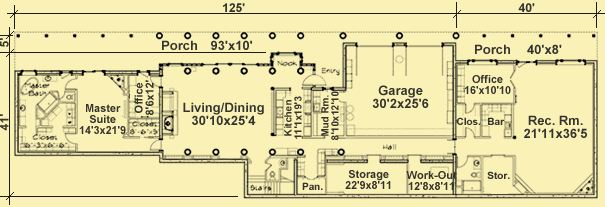bathroom having twin sink shower space and large sink: (13, 70, 81, 156)
stairs to the other floors: (240, 150, 299, 202)
there is a recreational room, office and open bar in the house: (452, 60, 597, 147)
there is a small garage in the house: (342, 41, 455, 142)
there is a storage along with bathroom which has a tub and sink: (453, 155, 520, 195)
this is a small kitchen: (269, 86, 311, 143)
